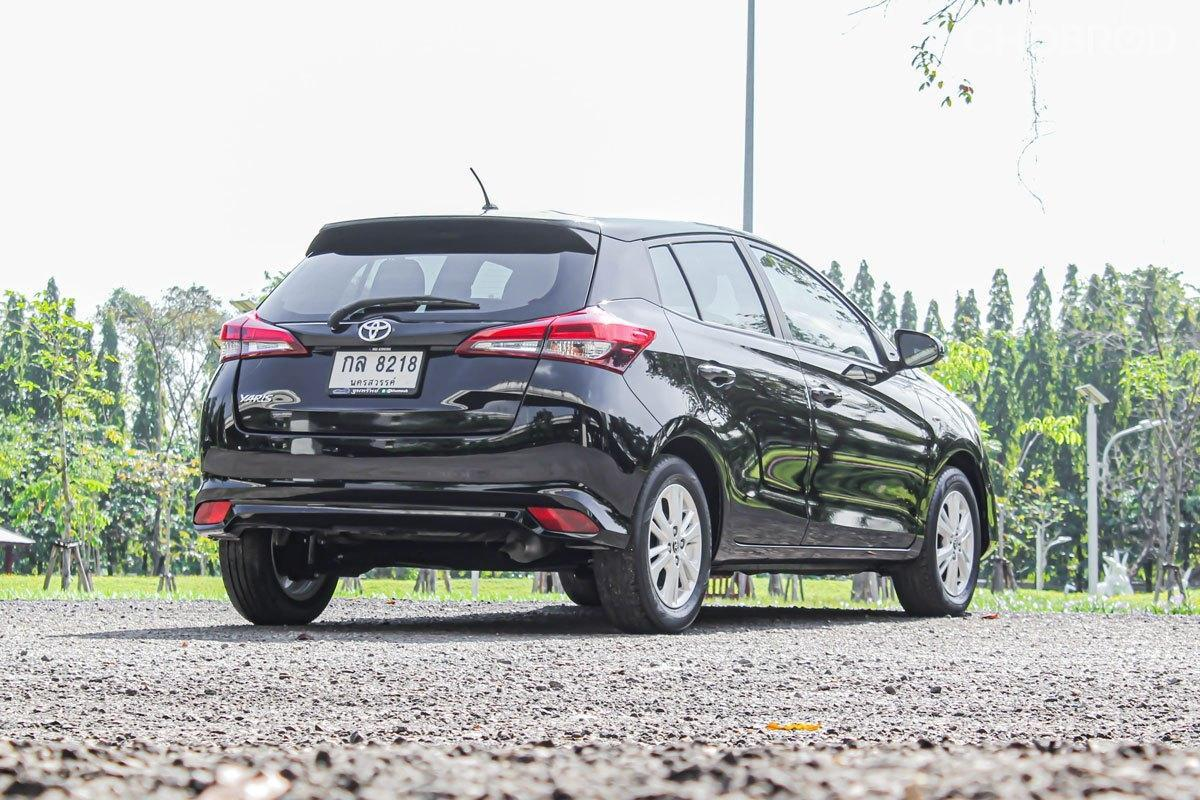license-plate: (320, 338, 440, 409)
